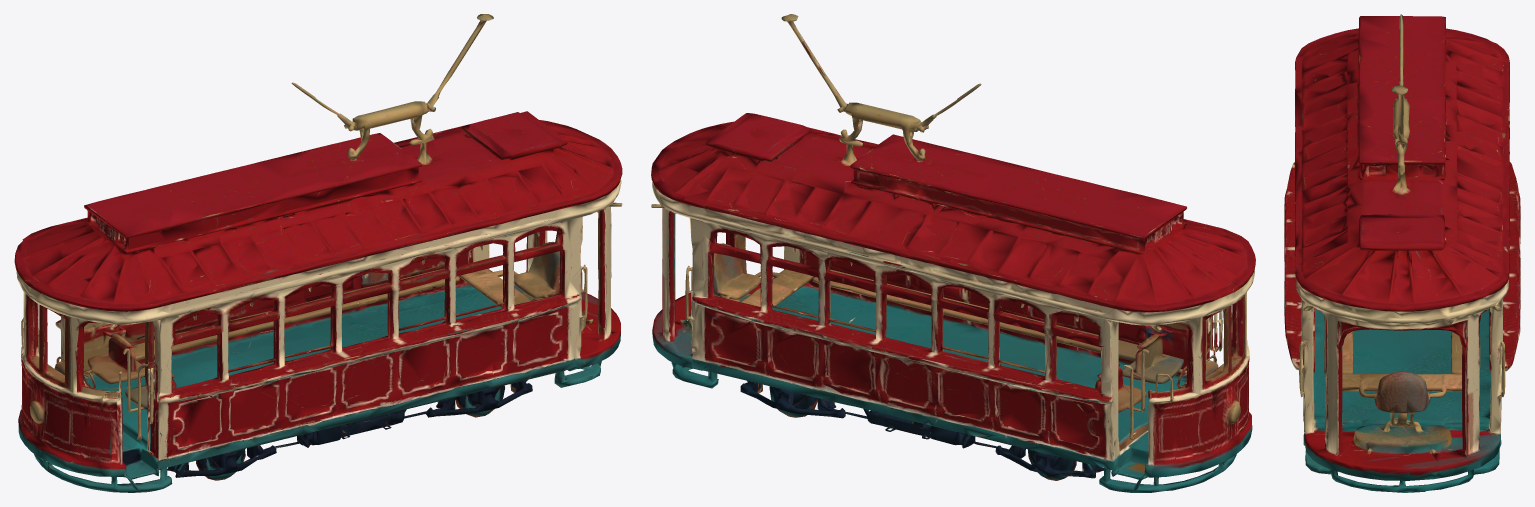
The model's file is tram.glb.
3 renders of one model, left to right at view 1: azimuth 30°, elevation 25°; view 2: azimuth 150°, elevation 25°; view 3: azimuth 270°, elevation 25°, orthographic.
Size of the model in its own units: 1.9 by 1.16 by 0.669.
Materials: 1 (1 with a texture image).
